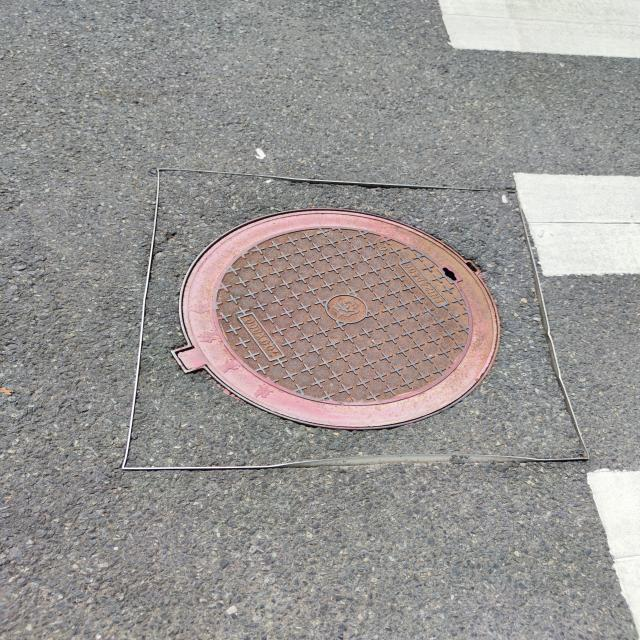Good: (172, 198, 511, 430)
